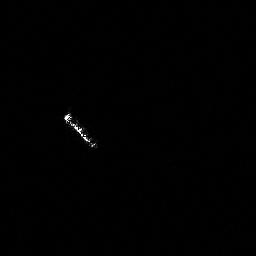ship: (60, 109, 100, 152)
